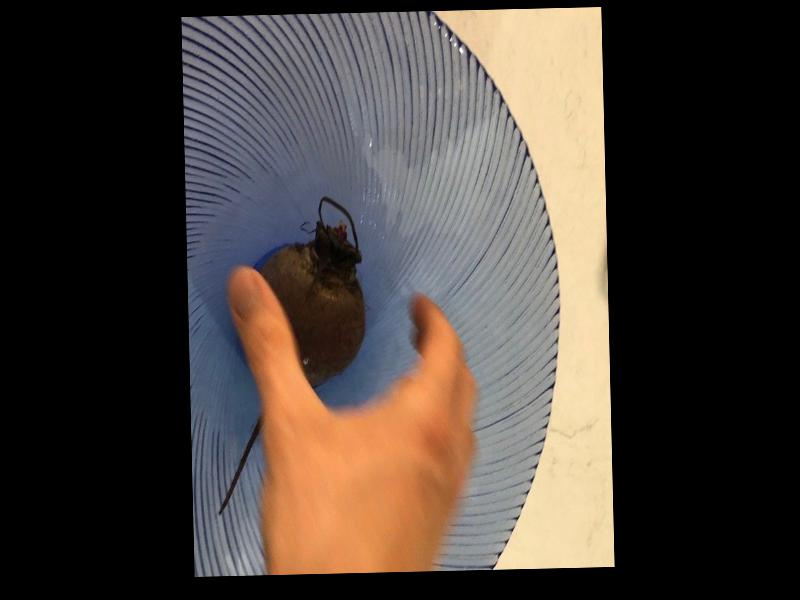Beet: (211, 196, 370, 513)
